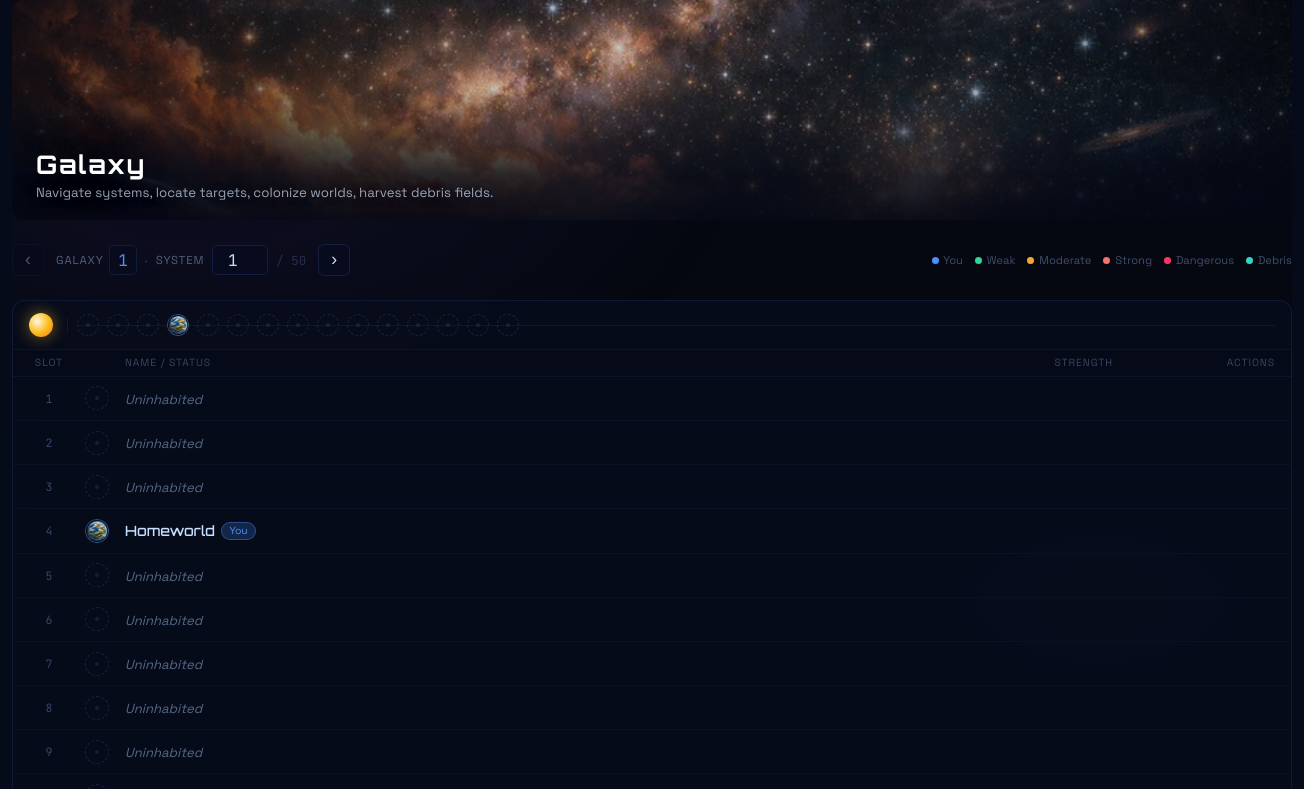
Test case: GalaxyPanel › next button increments system and syncs the inline input
The image size is (1304, 789).
Click the button named "Next system": (334, 260) [318,244,350,276]
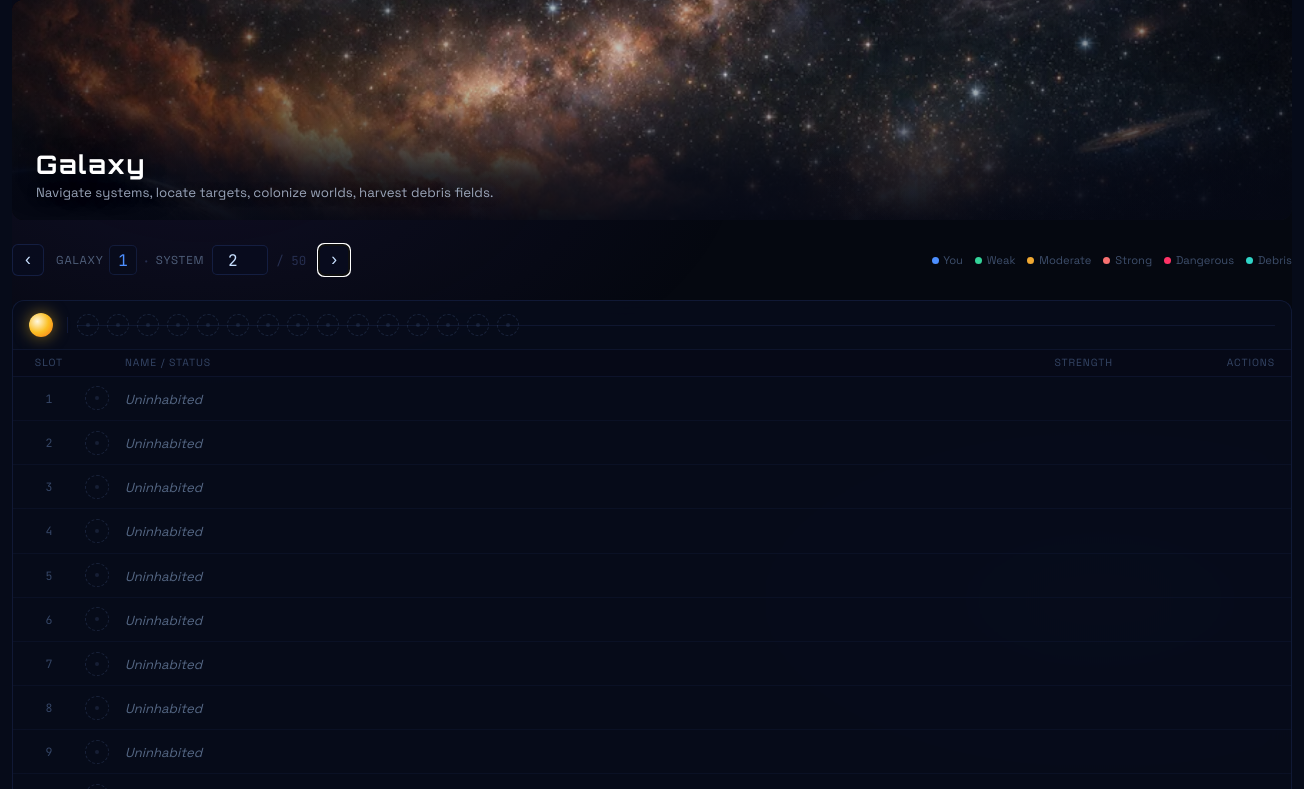
Expected: the number field labelled "System" holds "2", [212,245,268,275]
